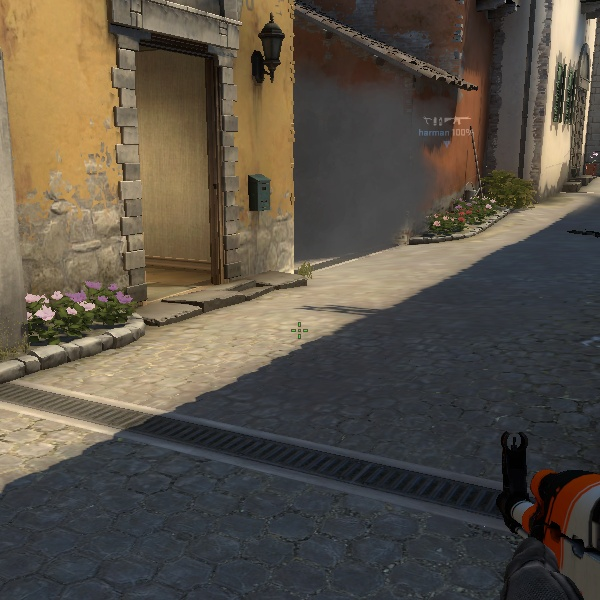t_body: (575, 148, 599, 200)
